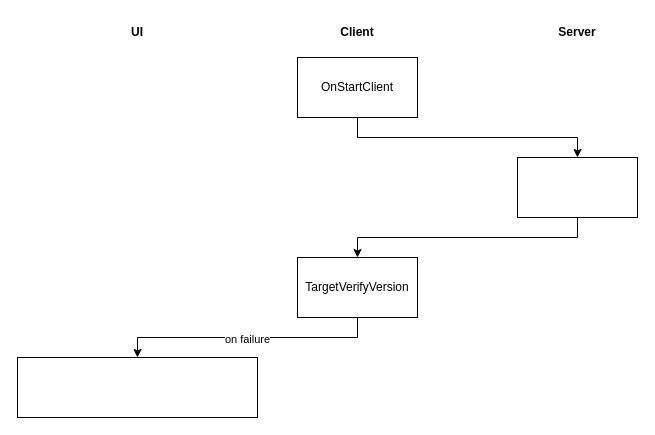
The diagram is 655 pixels wide and 435 high, and some of its shapes have lost their labels. The shapes that lost their labels are listed below. From the top down, each one's box as (x1, y1, x2, y2) in pixels, then its label:
(516, 156, 638, 218): CmdVerifyVersion
(16, 356, 258, 418): MessagesCanvas#ShowTimedMessage()
